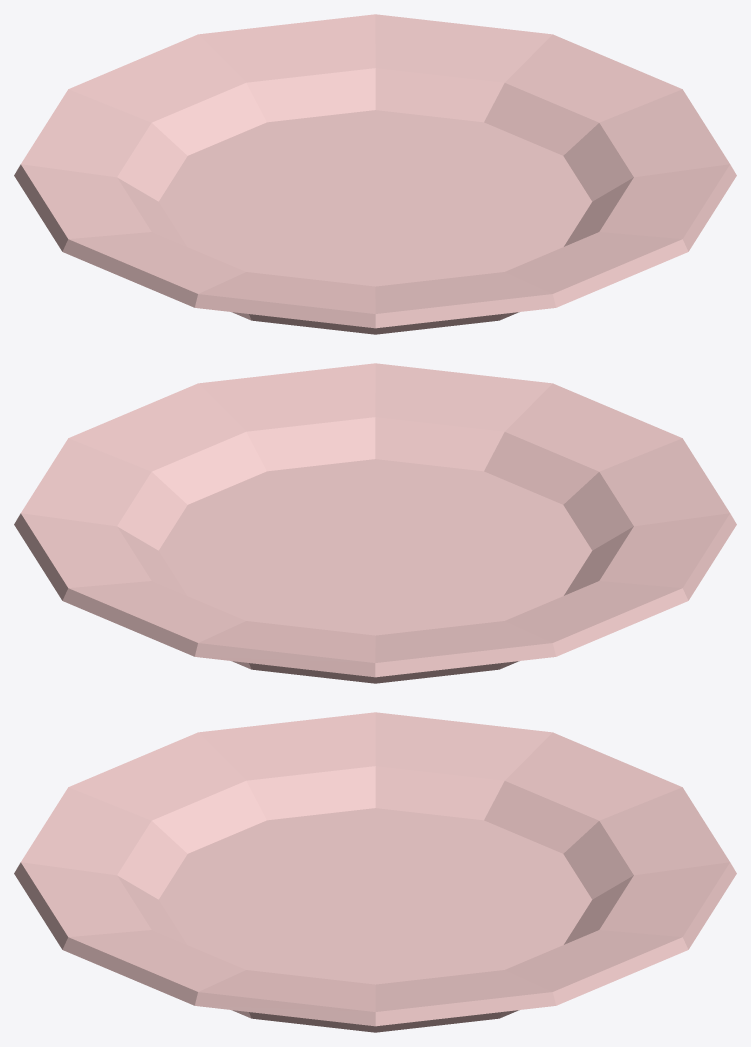
File: SM_Item_Plate_01.glb
3 views of the same model, one above another, from view 1: azimuth 30°, elevation 25°; view 2: azimuth 150°, elevation 25°; view 3: azimuth 270°, elevation 25° (orthographic).
Visible parts, largest first — view 1: SM_Item_Plate_01_00; view 2: SM_Item_Plate_01_00; view 3: SM_Item_Plate_01_00.
Boxes of the visible parts, x1,y1,x2,y2 form: SM_Item_Plate_01_00: (14, 14, 736, 334); SM_Item_Plate_01_00: (14, 363, 736, 683); SM_Item_Plate_01_00: (14, 712, 736, 1032).
Size of the model in its own units: 0.5329 by 0.0535 by 0.5329.
1 material, 1 textured.
